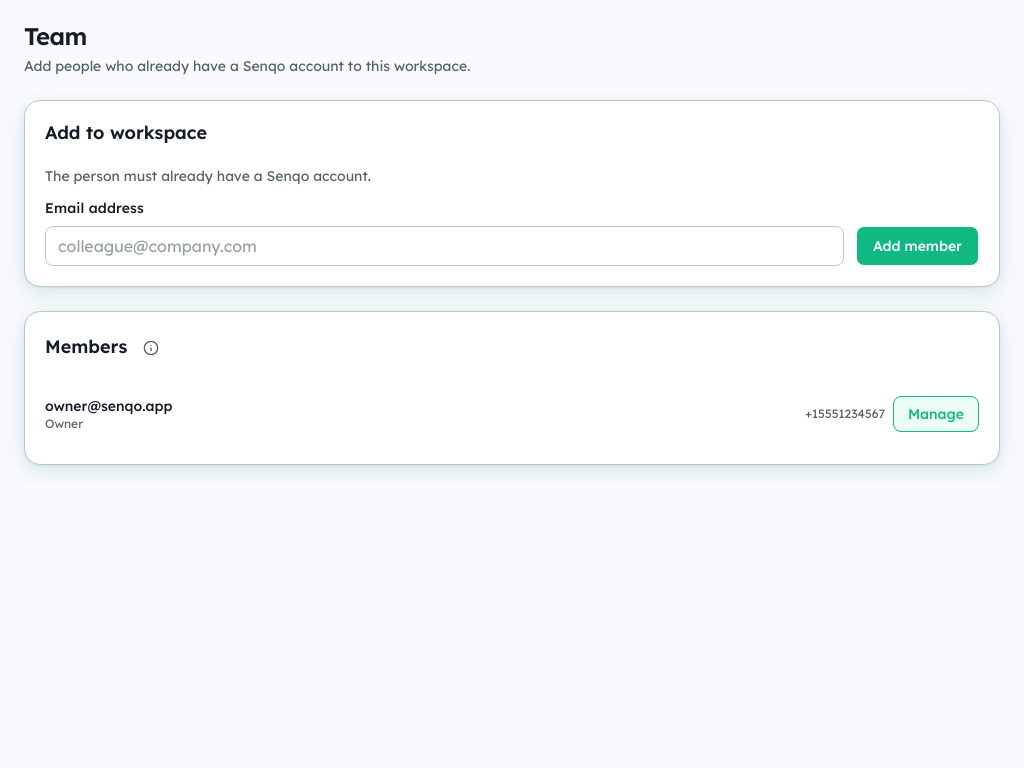
Test case: Team settings page › shows verified phone summary and Verified badge in the handoff panel
The width and height of the screenshot is (1024, 768).
Expected: the text "+15551234567" is shown, [805,406,885,422]
Click the button "Manage".
click(936, 414)  # box [893,396,979,432]
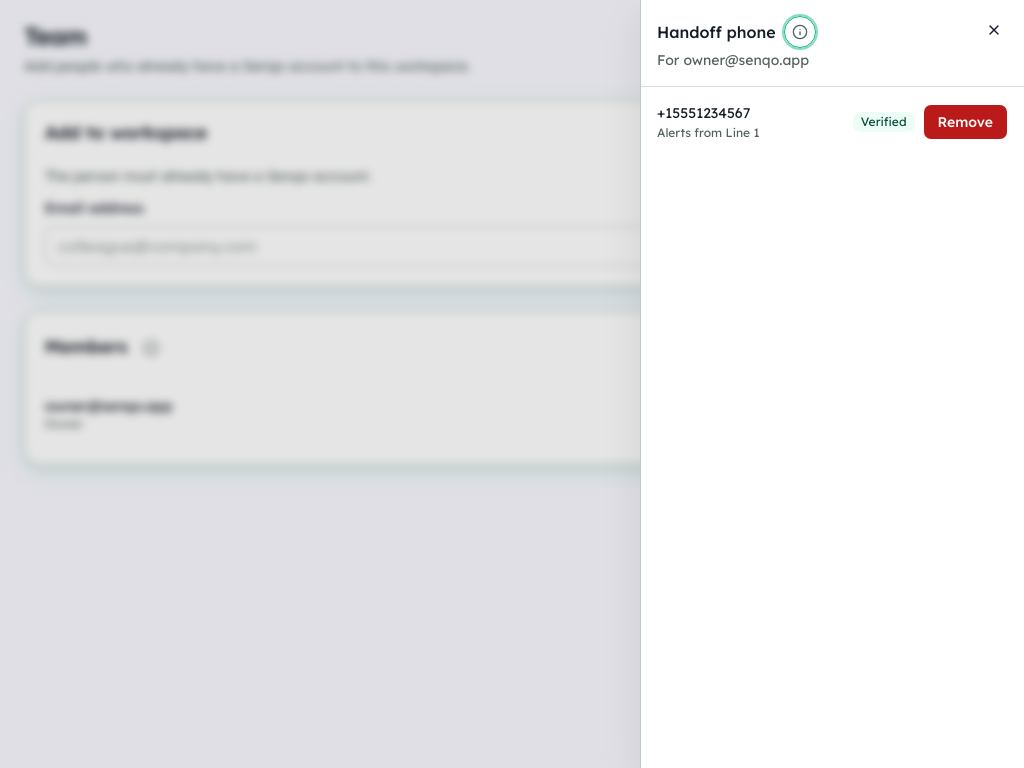
Expected: the dialog is shown, [640,0,1023,767]
Expected: the text "Verified" is shown, [853,112,915,132]
